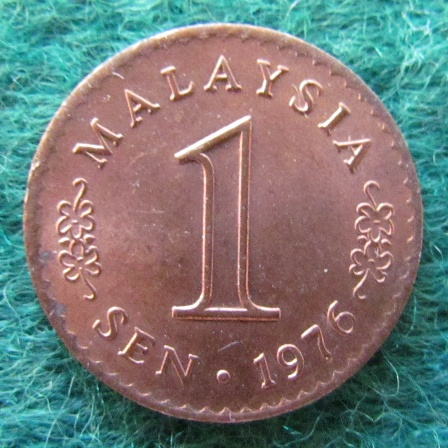1c: (21, 21, 426, 424)
